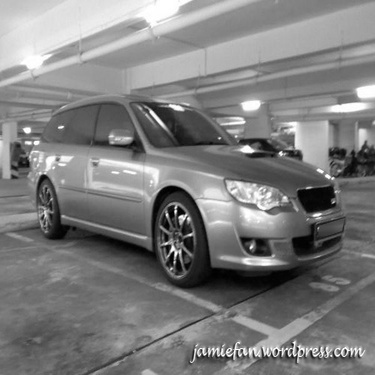car: (22, 88, 348, 288), (233, 136, 306, 163), (4, 134, 31, 173)
